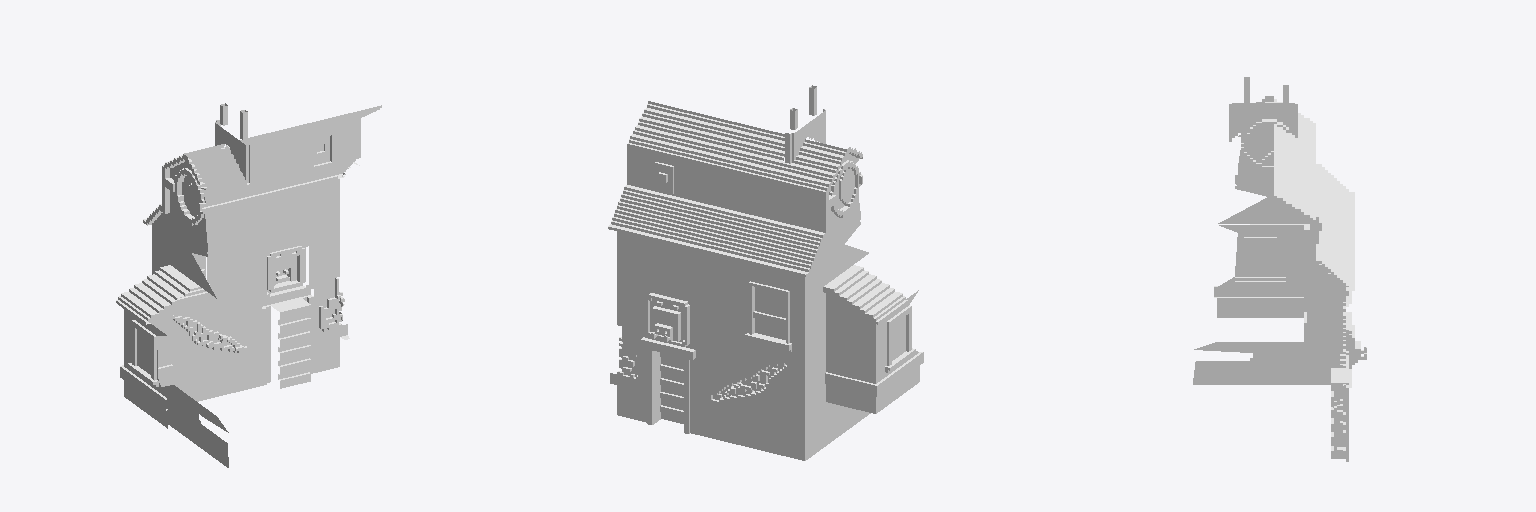
3 views of the same model, side by side, from view 1: azimuth 30°, elevation 25°; view 2: azimuth 150°, elevation 25°; view 3: azimuth 270°, elevation 25° (orthographic).
Visible parts, largest first — view 1: House_1; view 2: House_1; view 3: House_1.
Part boxes in pixels (left/top/right/bottom): House_1: left=116, top=103, right=381, bottom=467; House_1: left=608, top=85, right=923, bottom=460; House_1: left=1193, top=77, right=1366, bottom=461.
Bounding box in the file's own units: 9.6 × 12 × 5.8.